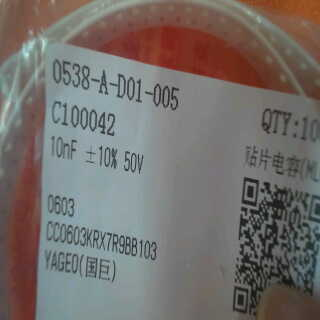10nF: (45, 134, 86, 163)
